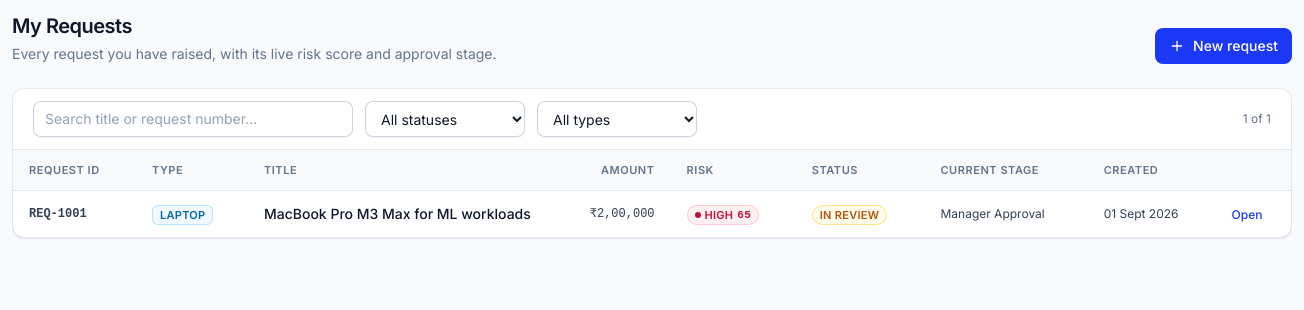
My Requests - loading, error and empty states › shows the empty state again when a filter matches nothing
Check: the text "REQ-1001" is shown, box [13,190,136,237]
Select "APPROVED" in the 1st dropdown showing "All statuses" at (445, 119), box [365,101,525,137]
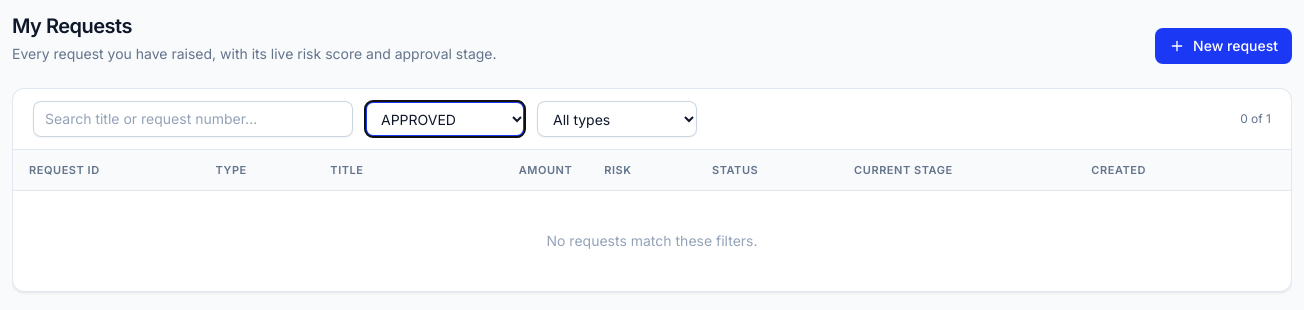
Check: the text "No requests match these filters." is shown, box [13,190,1291,291]
Check: the text "0 of 1" is shown, box [1240,111,1271,127]
